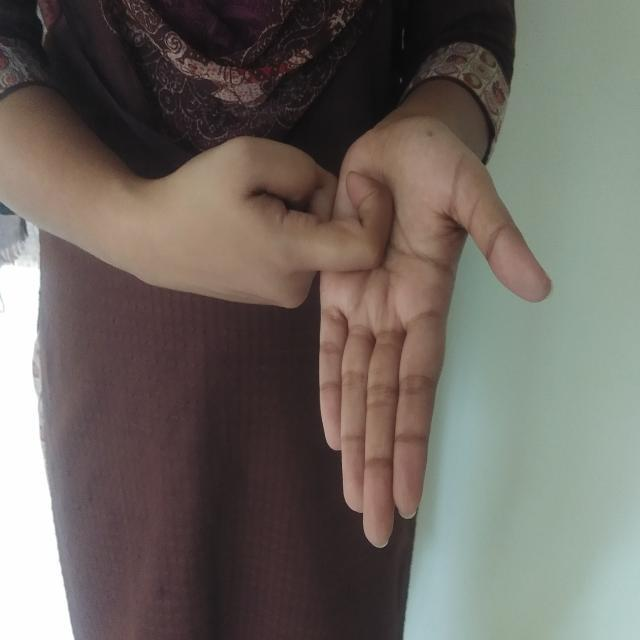R: (187, 95, 560, 551)
